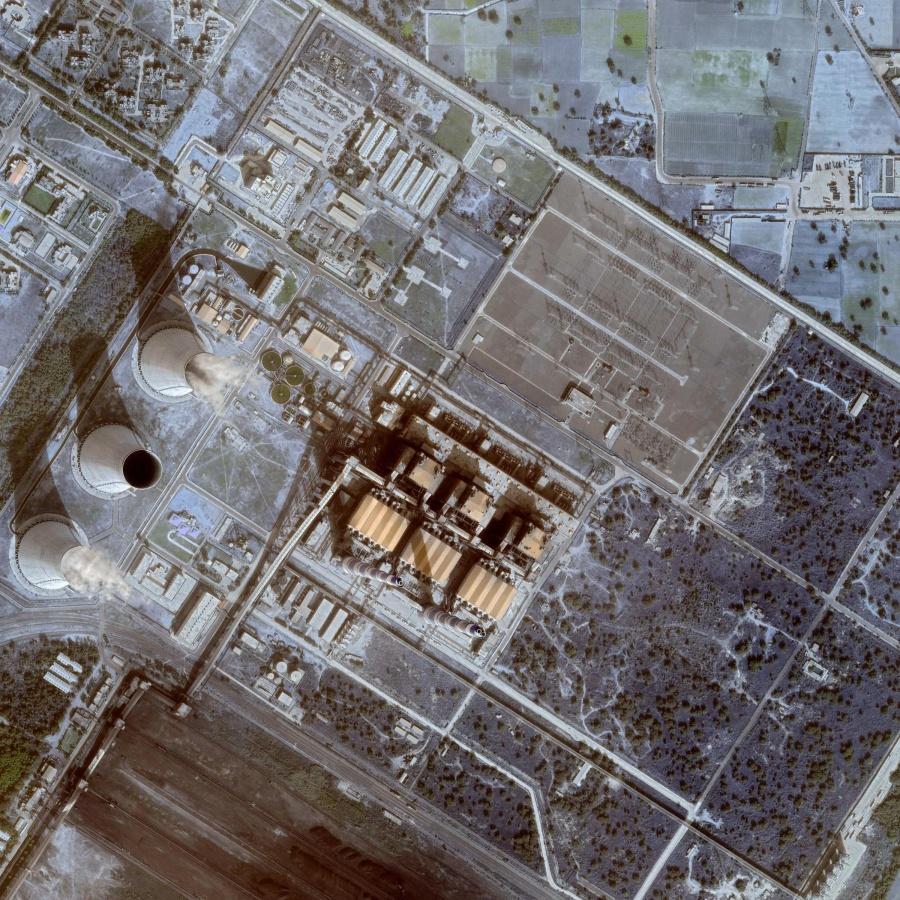PowerPlant: (3, 208, 553, 645)
